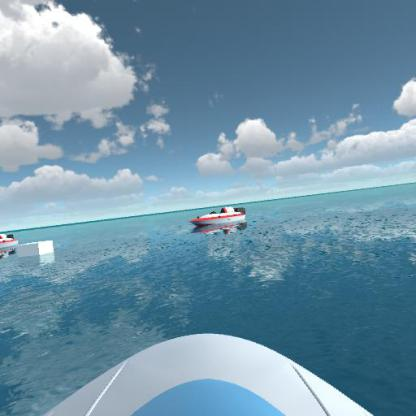usv3: (183, 202, 250, 232), (0, 224, 23, 256)
